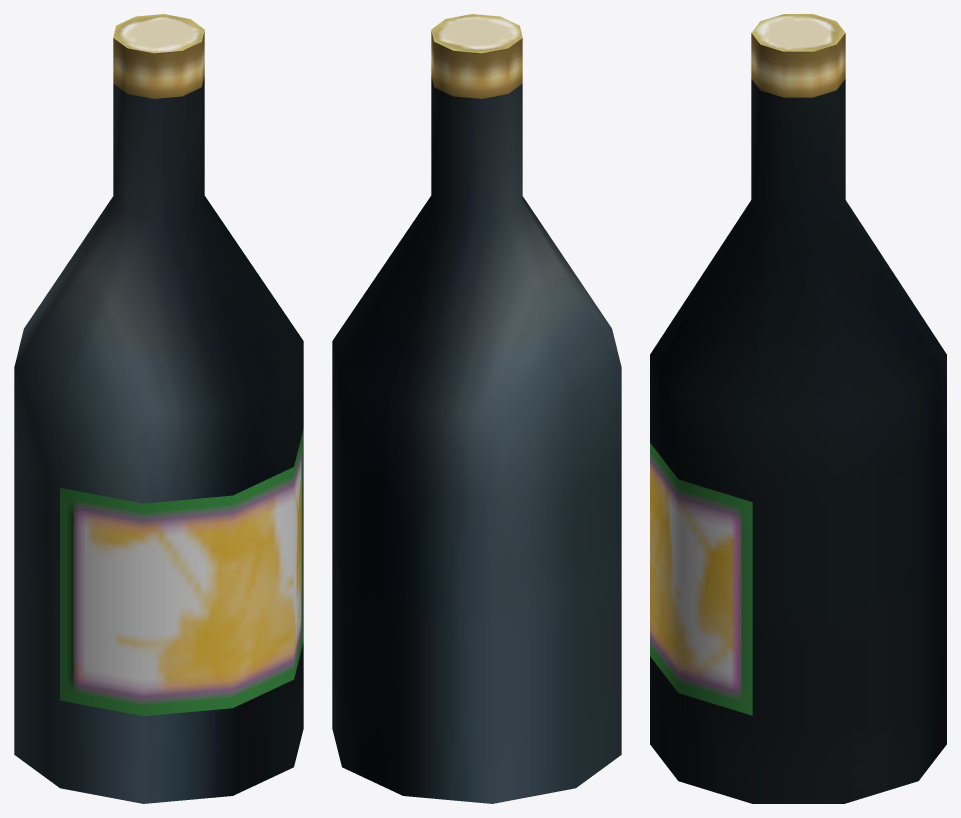
The model's file is giftgoods082c.fbx.
The picture shows the model from 3 angles, left to right: view 1: azimuth 30°, elevation 25°; view 2: azimuth 150°, elevation 25°; view 3: azimuth 270°, elevation 25°; orthographic projection.
Parts seen in each view (by area): view 1: giftgoods082c; view 2: giftgoods082c; view 3: giftgoods082c.
Boxes of the visible parts, x1,y1,x2,y2 form: giftgoods082c: (14, 14, 303, 803); giftgoods082c: (332, 14, 621, 803); giftgoods082c: (650, 14, 946, 803).
Size of the model in its own units: 0.1193 by 0.3317 by 0.1255.
